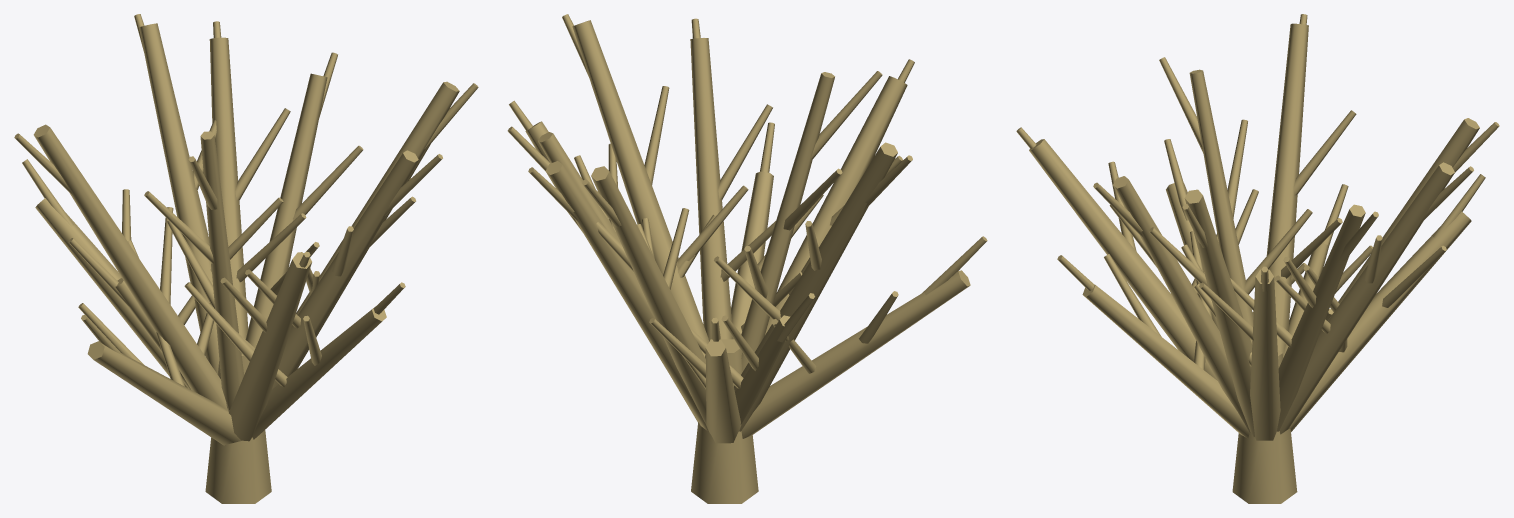
File: coral-branch.glb
The picture shows the model from 3 angles, left to right: view 1: azimuth 30°, elevation 25°; view 2: azimuth 150°, elevation 25°; view 3: azimuth 270°, elevation 25°; orthographic projection. The views are drawn at different scales.
Parts seen in each view (by area): view 1: Original authored part; view 2: Original authored part; view 3: Original authored part.
Boxes of the visible parts, x1=… form: Original authored part: x1=14, y1=14, x2=478, y2=503; Original authored part: x1=507, y1=14, x2=987, y2=503; Original authored part: x1=1016, y1=14, x2=1499, y2=503.
Size of the model in its own units: 1.38 by 1.26 by 1.42.
